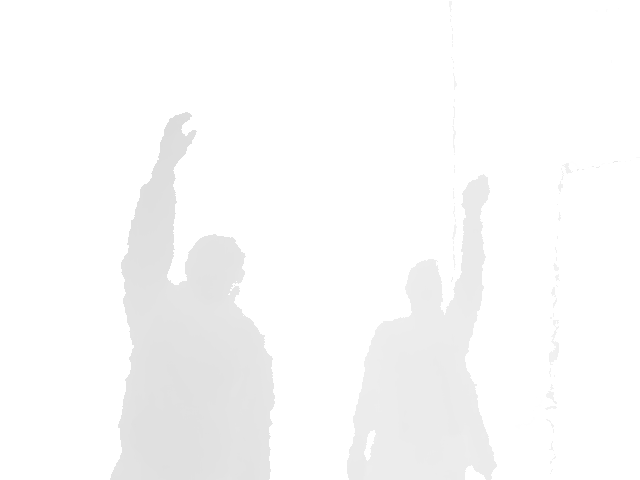hand: (158, 111, 197, 166), (462, 172, 491, 220)
head: (184, 234, 246, 302), (406, 258, 445, 318)
person: (107, 112, 277, 480), (345, 171, 498, 480)
